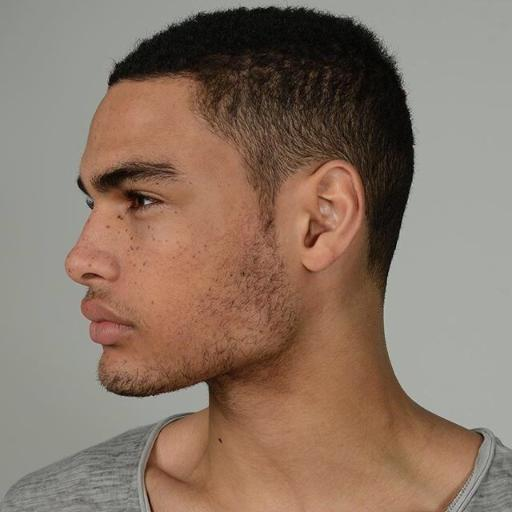left_eye: (120, 188, 173, 214)
left_lip_corner: (116, 313, 136, 337)
